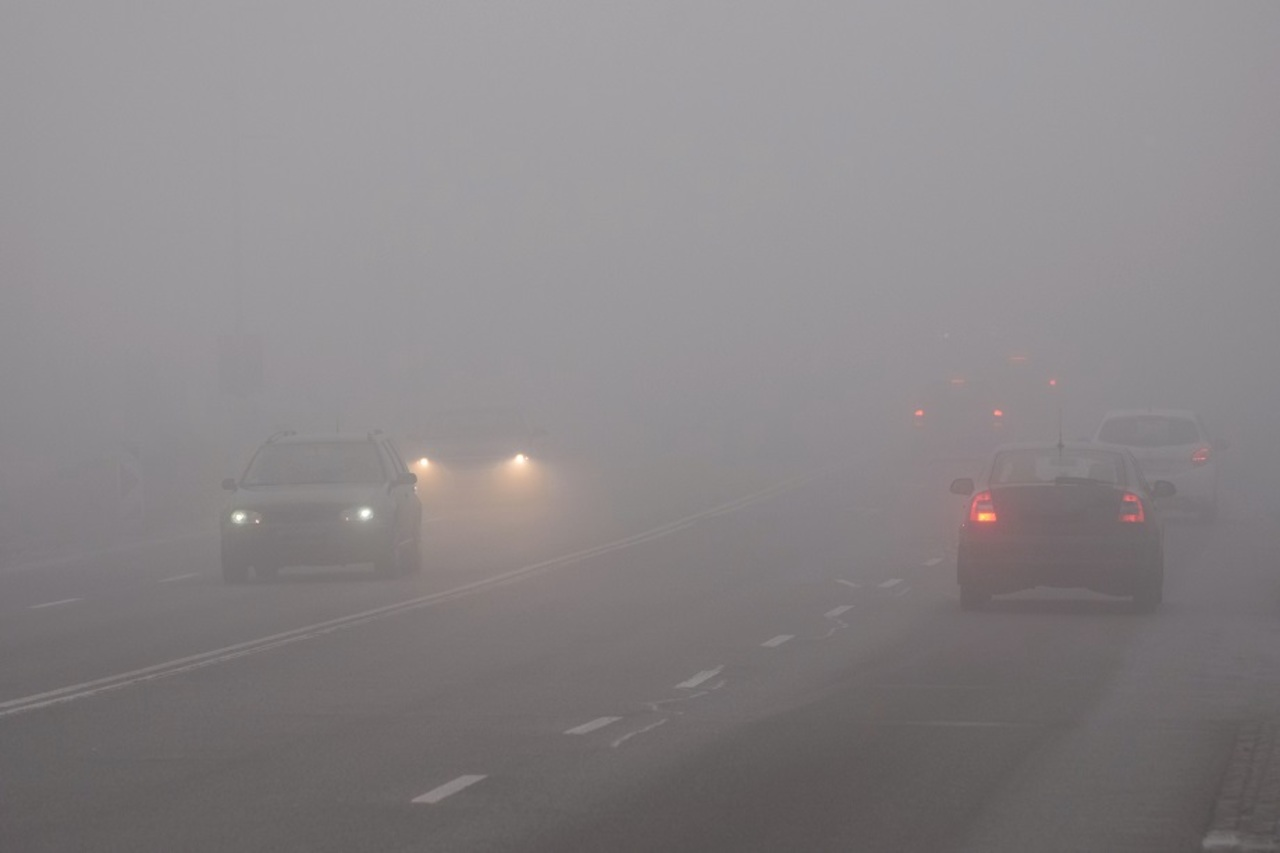car: (952, 443, 1167, 613), (213, 432, 428, 585), (405, 392, 552, 510), (1086, 407, 1217, 520), (907, 375, 1011, 447), (994, 347, 1066, 401)
